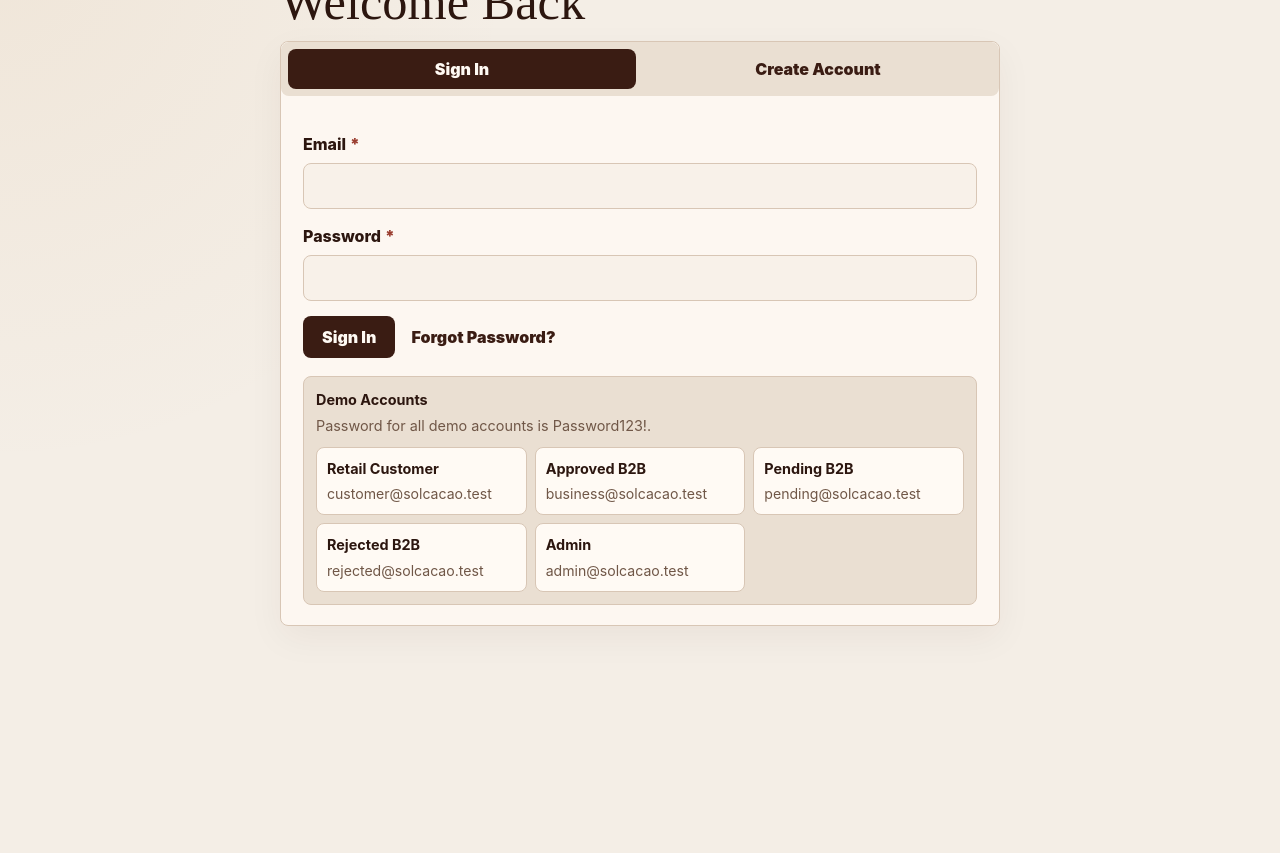
Test: registration requires fields and switches to business-specific fields
Click the button "Create Account": (818, 69) [644,49,992,89]
(page scrolled)
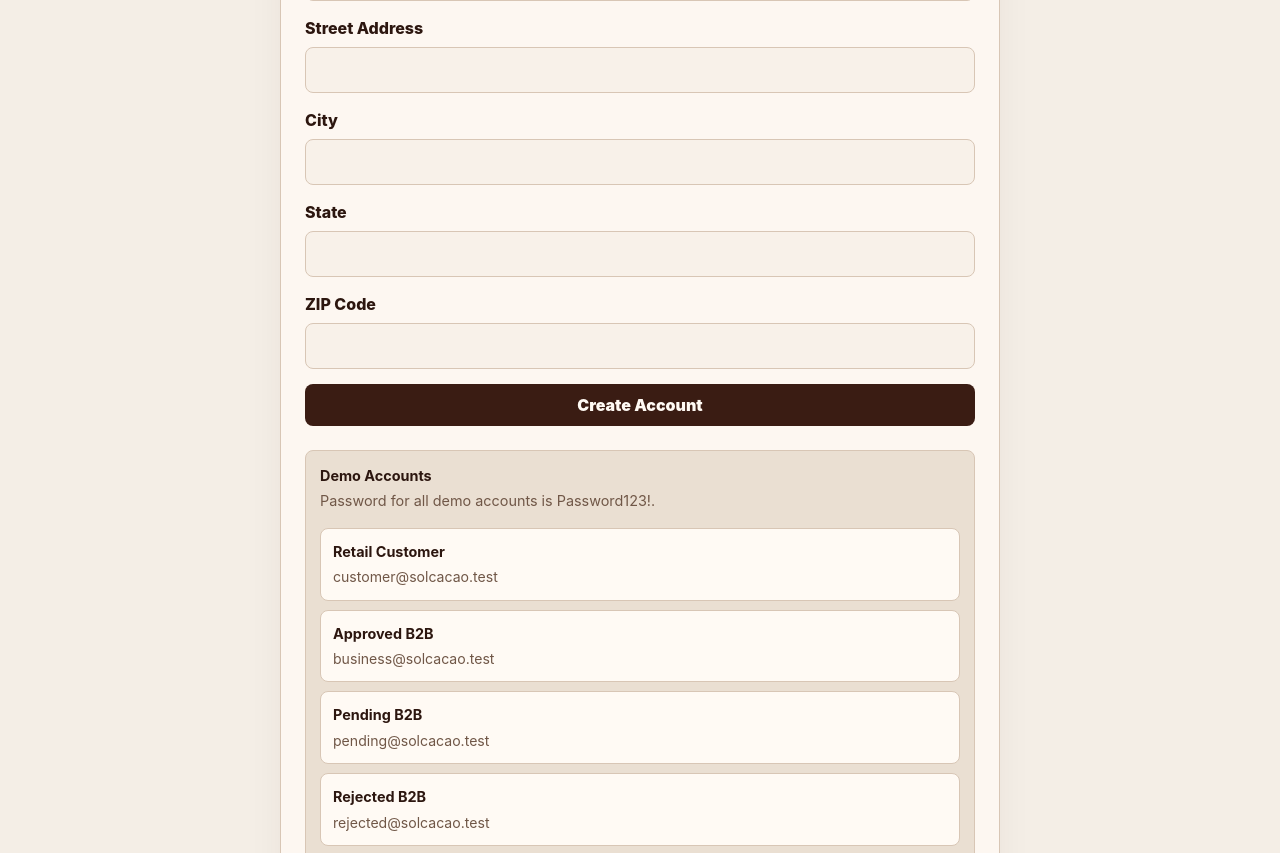
Click the button "Create Account": (640, 405) [305,384,975,426]
(page scrolled)
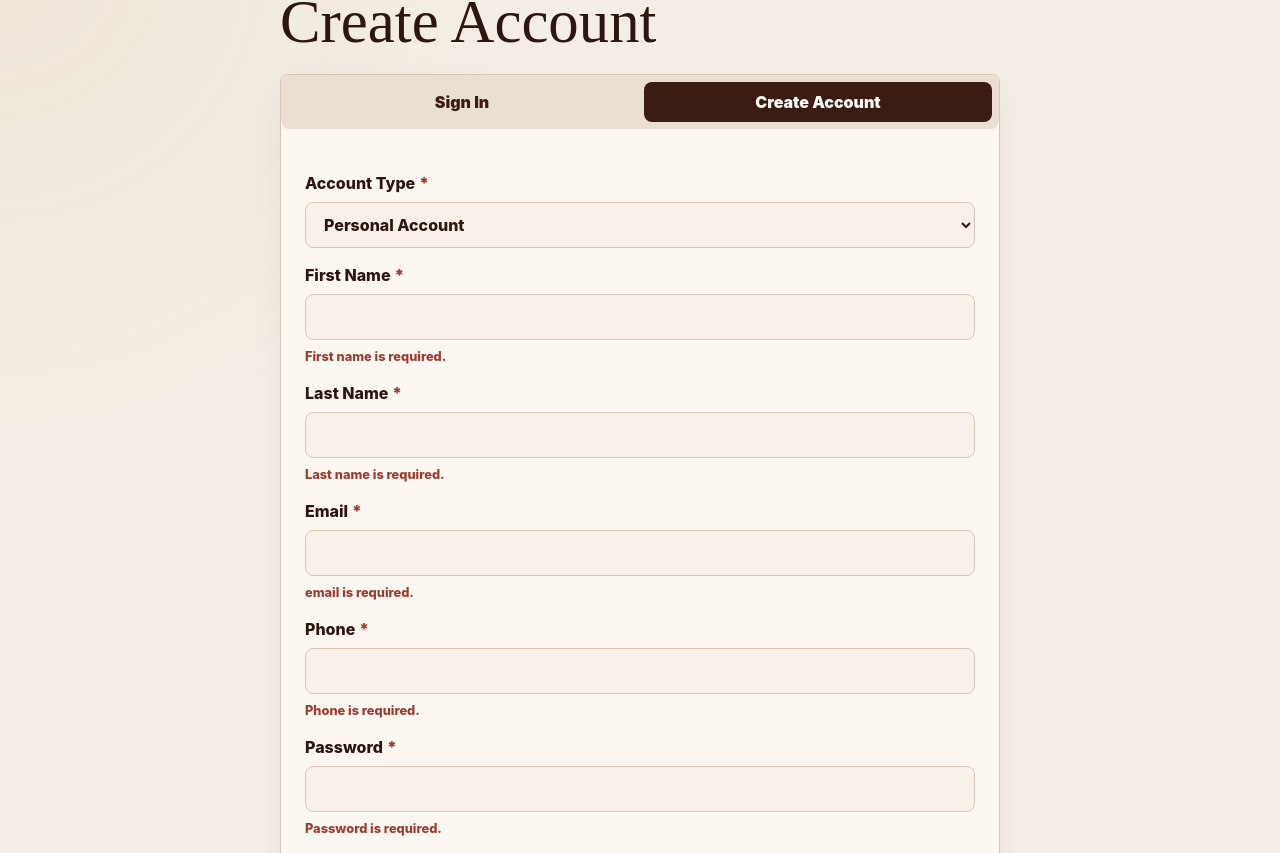
Expected: the field labelled "First Name * First name is required." is marked as invalid, [305,294,975,340]
Select "Business Account" in the dropdown labelled "Account Type": (640, 225) [305,202,975,248]
(page scrolled)
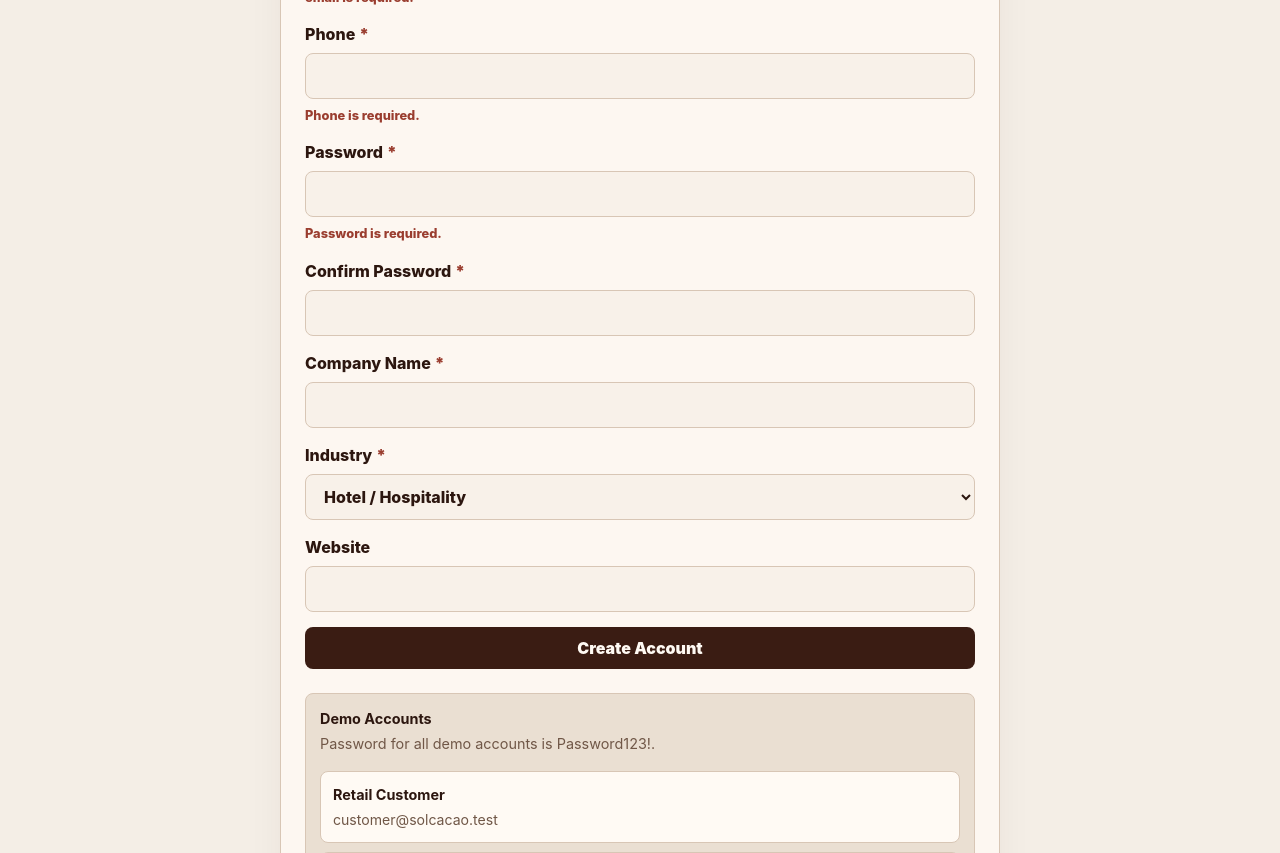
Expected: the field labelled "Company Name" is shown, [305,382,975,428]
